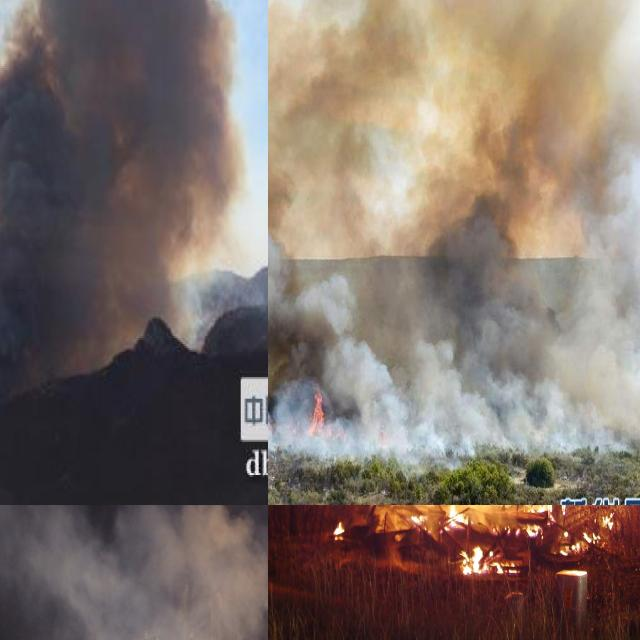fire: (359, 505, 625, 579), (287, 376, 401, 454)
smoke: (268, 0, 640, 452), (0, 0, 242, 418), (0, 505, 268, 640)
